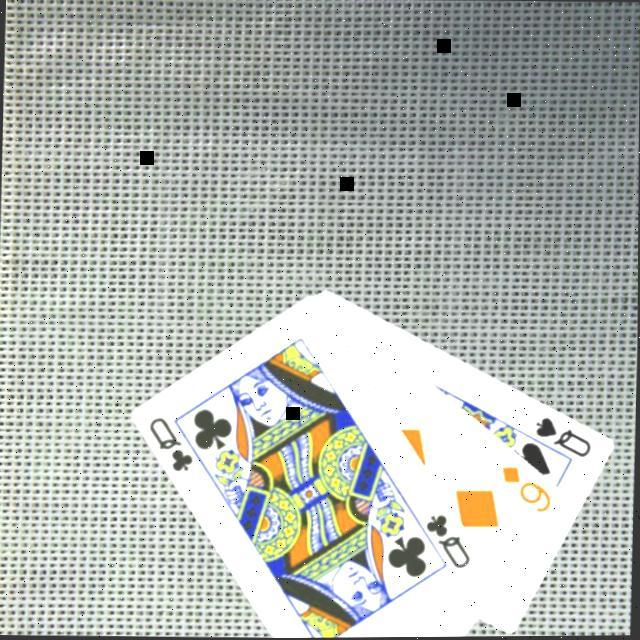6D: (496, 463, 555, 517)
QC: (421, 512, 475, 574), (145, 414, 198, 476)
QS: (530, 414, 596, 463)
